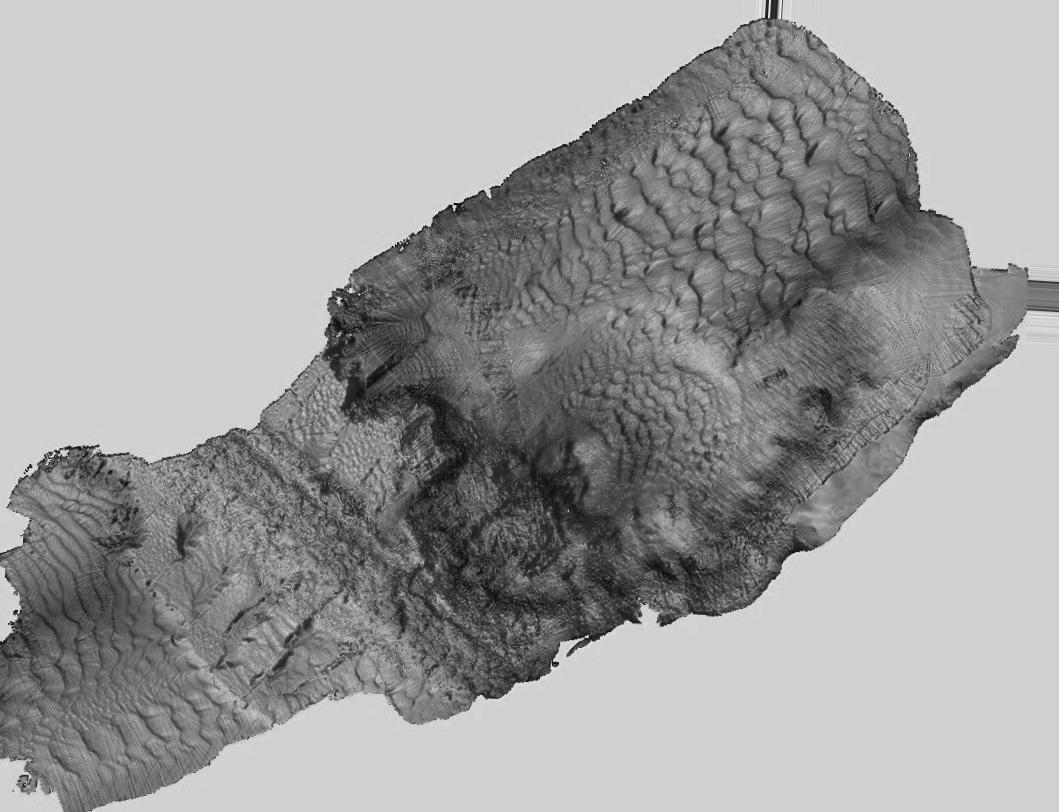Dune: (673, 127, 819, 293), (55, 700, 225, 785), (34, 577, 137, 684), (555, 192, 647, 300), (607, 359, 692, 451)
Scarp: (595, 541, 921, 658)
Scour pit: (523, 401, 619, 530)
Submerged dike: (203, 438, 358, 598), (390, 591, 523, 727), (323, 564, 445, 680)
